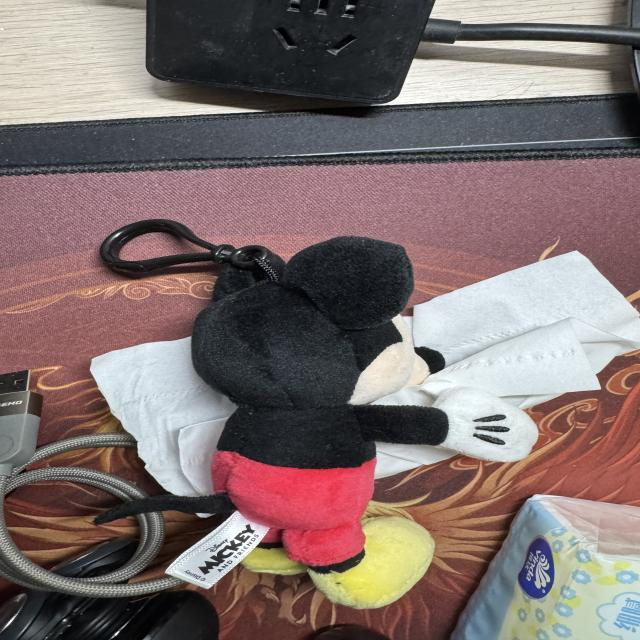mickey: (96, 237, 537, 608)
